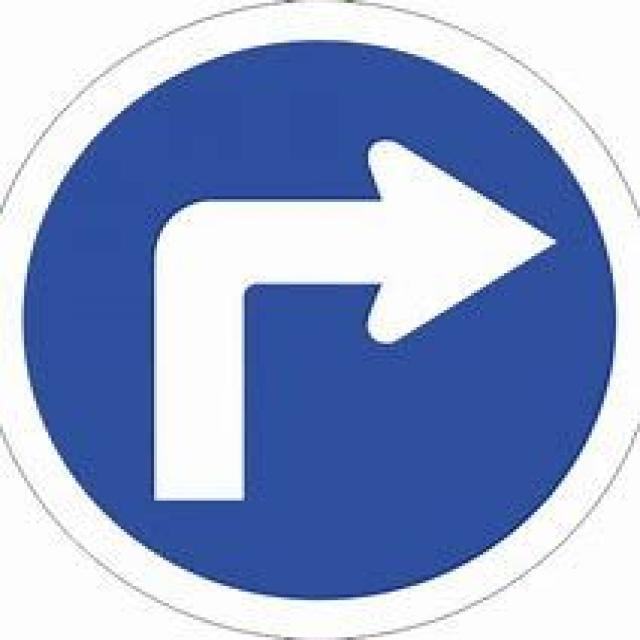compulsary turn right ahead: (16, 26, 627, 628)
